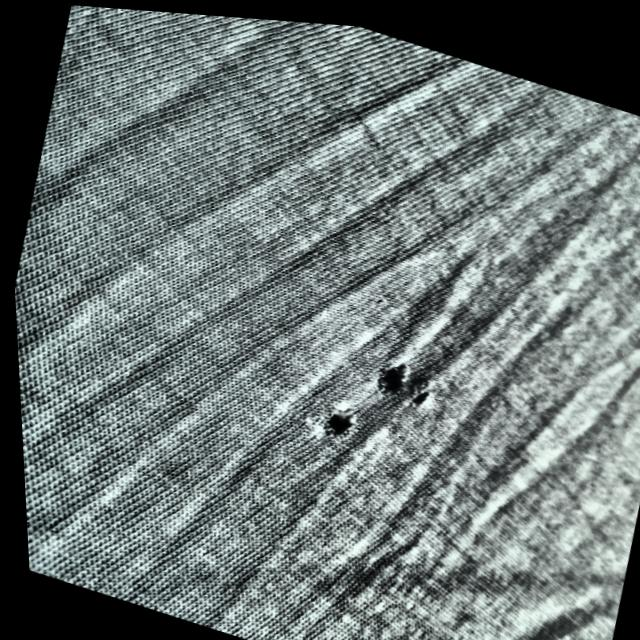Hole: (354, 350, 403, 409), (310, 400, 354, 441), (398, 374, 437, 410)
